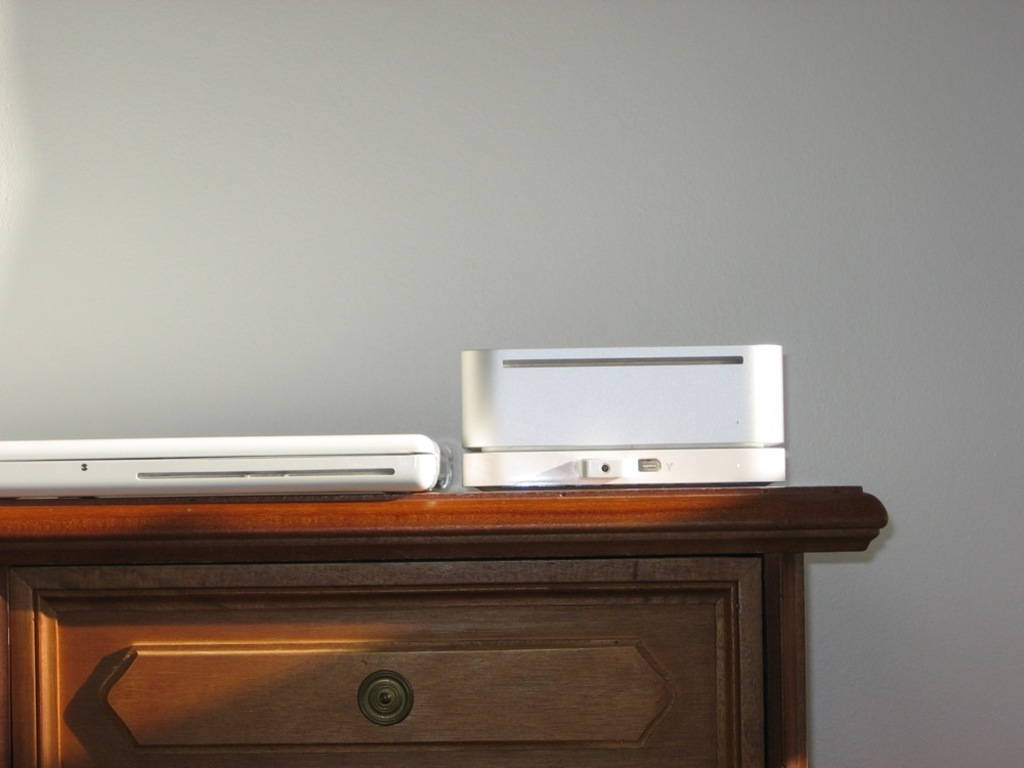cabinet door: (52, 618, 728, 757)
handle: (359, 670, 418, 727)
